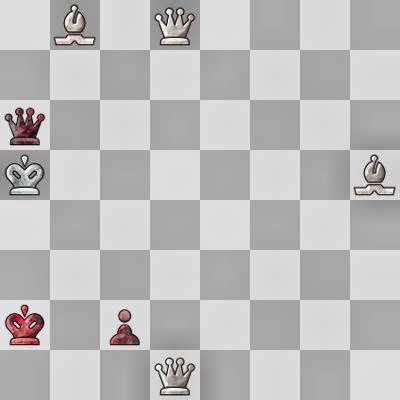black-king: (0, 300, 50, 350)
black-pawn: (100, 300, 150, 350)
black-queen: (0, 100, 50, 150)
white-bishop: (50, 0, 100, 50), (350, 150, 400, 200)
white-king: (0, 150, 50, 200)
white-queen: (150, 0, 200, 50), (150, 350, 200, 400)
